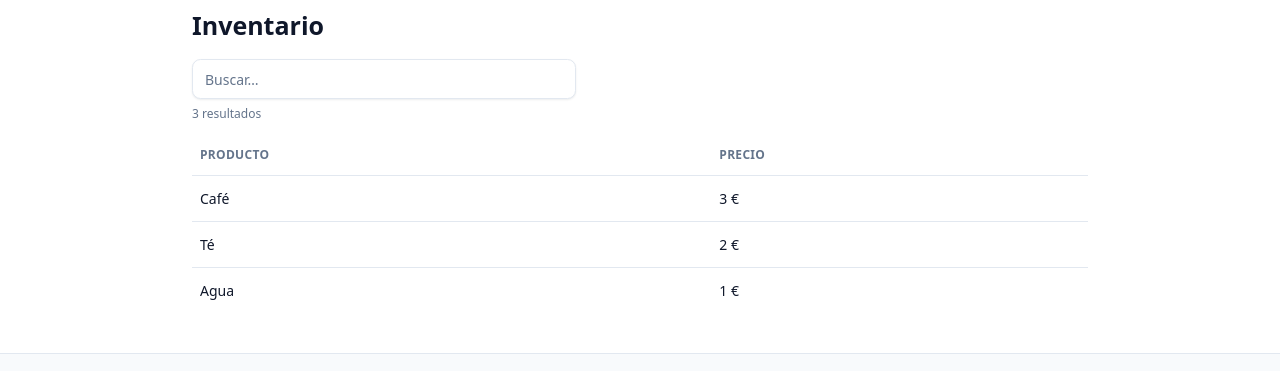
Test case: bloque table › filtra por cualquier celda sin distinguir mayúsculas ni acentos
The width and height of the screenshot is (1280, 371).
Step 1. Type "CAFE" into the search field named "Buscar en la tabla" → (384, 79), box [192, 59, 576, 99]
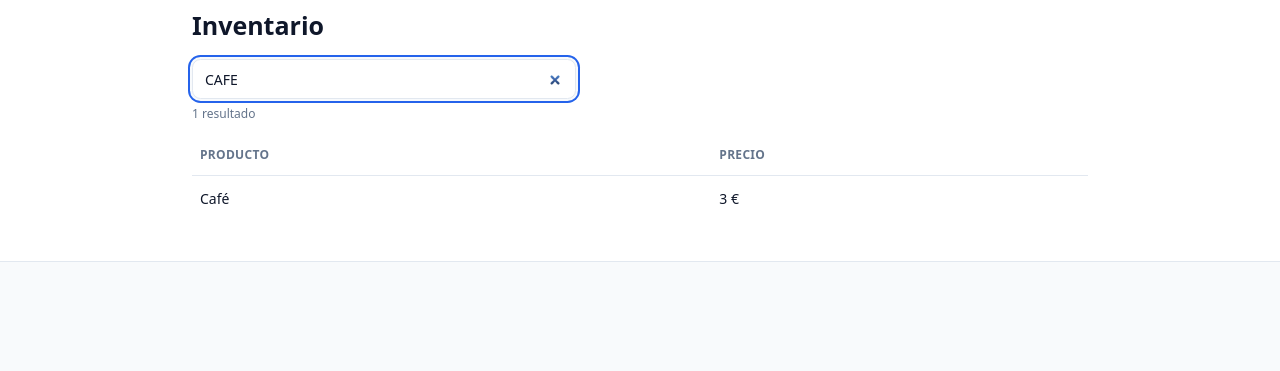
Expected: the cell "Café" is shown, [192, 176, 711, 221]
Expected: the cell "Té" is gone
Expected: the text "1 resultado" is shown, [192, 105, 255, 122]
